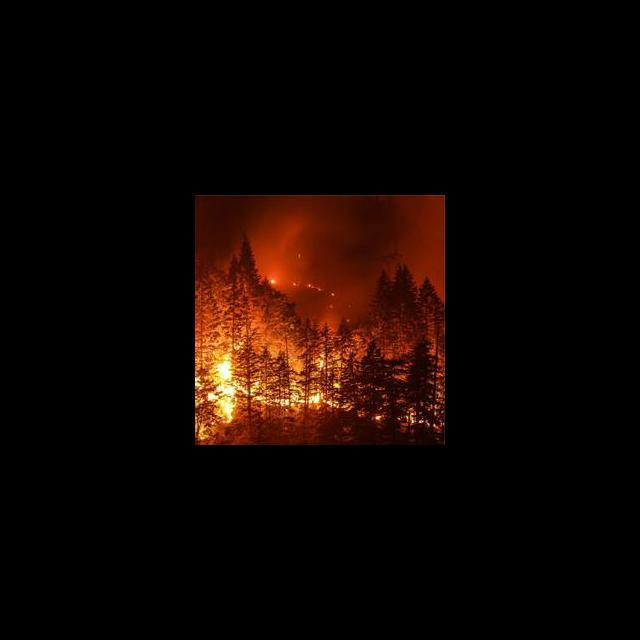Fire: (202, 348, 242, 428), (244, 375, 333, 410)
